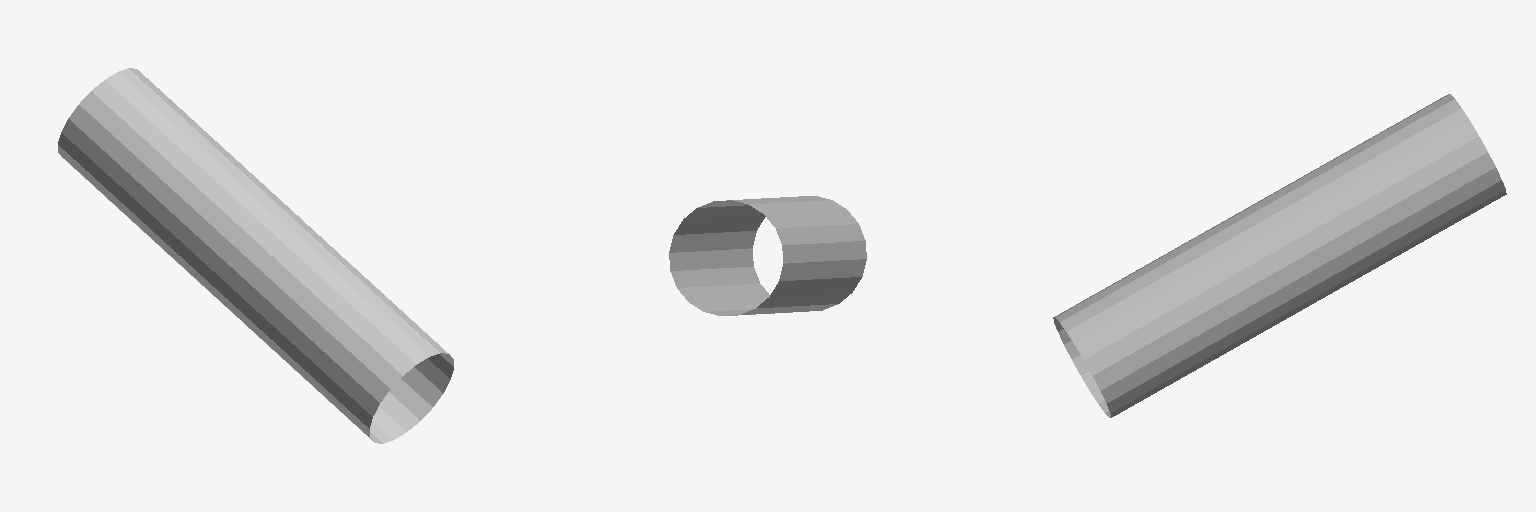
The model's file is tree_0087.obj.
3 views of the same model, side by side, from view 1: azimuth 30°, elevation 25°; view 2: azimuth 150°, elevation 25°; view 3: azimuth 270°, elevation 25° (orthographic).
Visible parts, largest first — view 1: groupWood; view 2: groupWood; view 3: groupWood.
Part boxes in pixels (x1,y1,x2,y2): groupWood: (58, 68, 453, 443); groupWood: (669, 196, 866, 315); groupWood: (1053, 94, 1506, 417).
Bounding box in the file's own units: 0.0322 × 0.0388 × 0.0602.